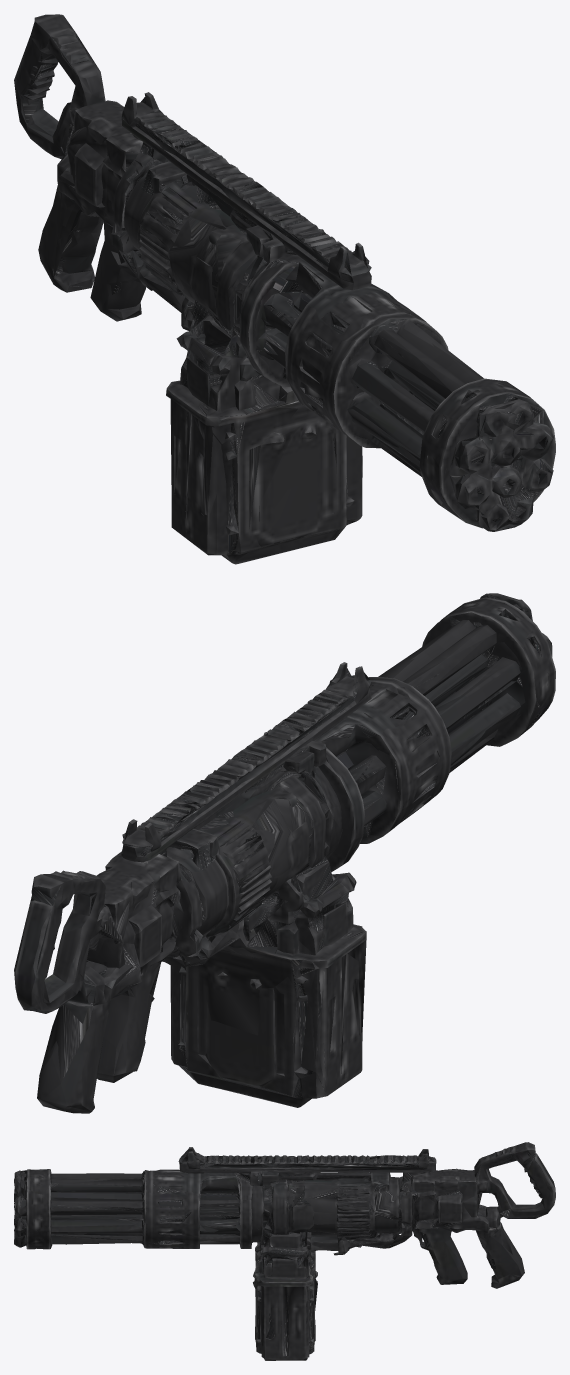
Rendered from rotary_minigun.glb.
3 views of the same model, one above another, from view 1: azimuth 30°, elevation 25°; view 2: azimuth 150°, elevation 25°; view 3: azimuth 270°, elevation 25° (orthographic). The views are drawn at different scales.
Parts seen in each view (by area): view 1: model, mesh_lod; view 2: model, mesh_lod; view 3: model, mesh_lod.
Part boxes in pixels (bbox=[...]): model: bbox=[14, 14, 555, 564]; mesh_lod: bbox=[14, 22, 551, 562]; model: bbox=[14, 593, 555, 1113]; mesh_lod: bbox=[23, 594, 555, 1104]; model: bbox=[14, 1142, 555, 1360]; mesh_lod: bbox=[14, 1149, 553, 1360].
Size of the model in its own units: 0.1924 by 0.4128 by 1.
Materials: 1 (1 with a texture image).
